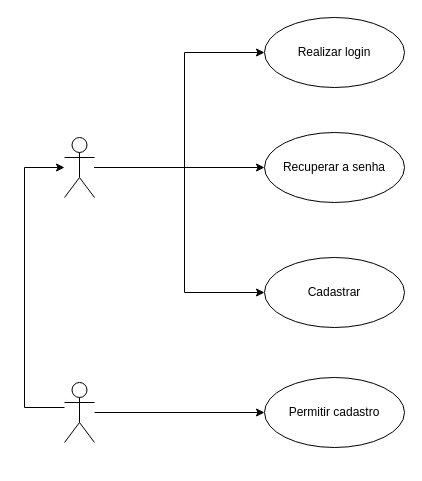
Image size: 422x481. Some labels were removed from this diagram. The shapes that lost their labels are listed below. From the top down, each one's box as (x1, y1, x2, y2) in pixels, then its label:
(64, 136, 94, 198): Usuario
(64, 382, 94, 442): Secretaria
